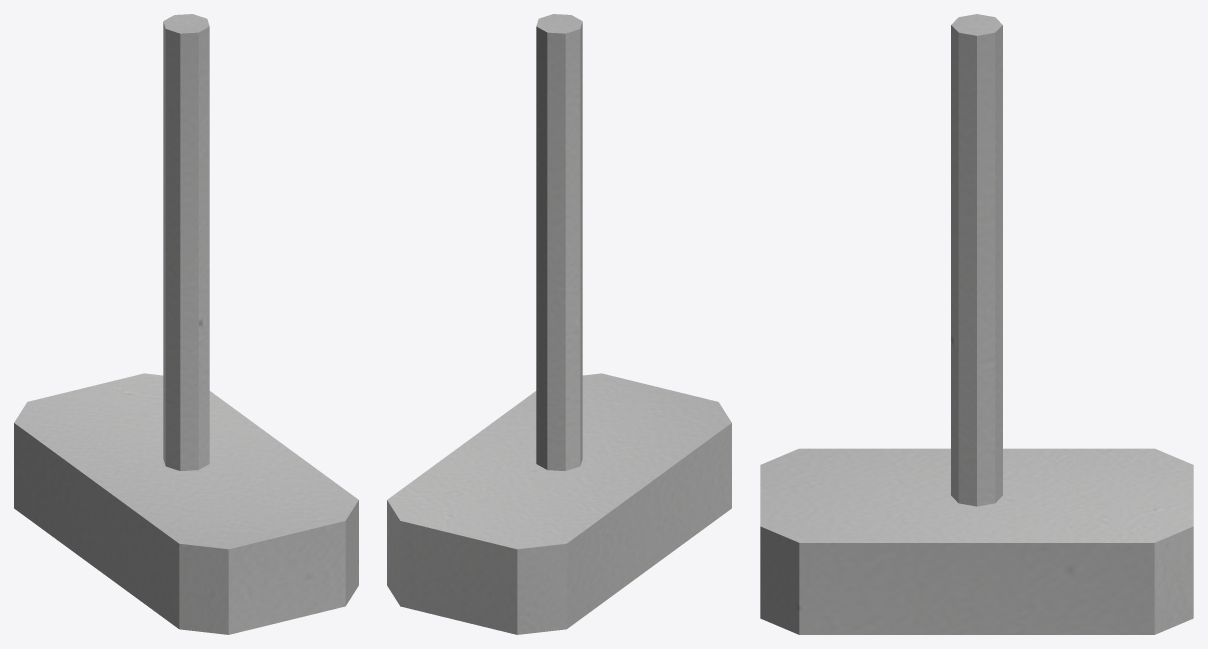
File: Lamppu.fbx
3 renders of one model, left to right at view 1: azimuth 30°, elevation 25°; view 2: azimuth 150°, elevation 25°; view 3: azimuth 270°, elevation 25°, orthographic. The views are drawn at different scales.
Visible parts, largest first — view 1: Eka Lamppu; view 2: Eka Lamppu; view 3: Eka Lamppu.
Boxes of the visible parts, box(x1,y1,x2,y2) form: Eka Lamppu: box(14, 14, 358, 634); Eka Lamppu: box(387, 14, 731, 634); Eka Lamppu: box(760, 14, 1193, 634).
Size of the model in its own units: 200 by 557 by 388.
1 material, 1 textured.
